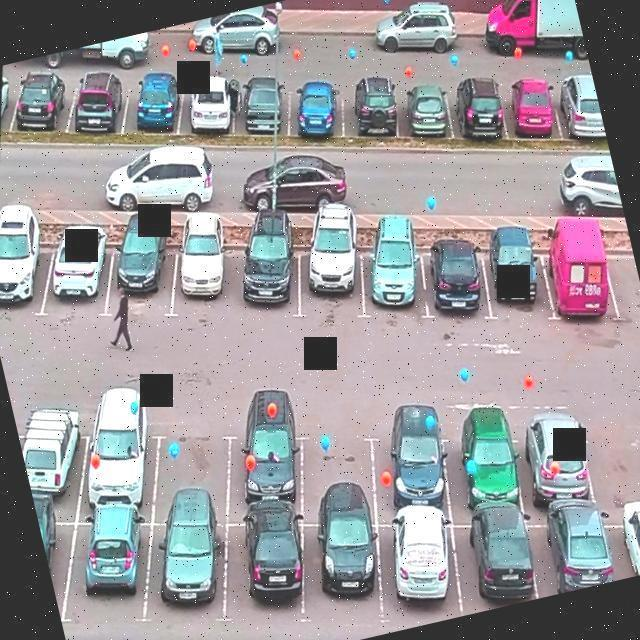space-empty: (276, 393, 402, 529), (134, 407, 248, 533), (552, 399, 640, 535), (588, 242, 640, 336)
space-occupied: (47, 491, 175, 640), (120, 502, 255, 640), (355, 499, 487, 635), (273, 502, 402, 638), (204, 395, 327, 534), (424, 493, 558, 619), (494, 398, 615, 533), (204, 502, 325, 634), (353, 395, 472, 528), (425, 402, 541, 526), (504, 498, 637, 602), (70, 395, 178, 517), (524, 227, 636, 338), (219, 222, 325, 337), (13, 396, 109, 522), (464, 227, 573, 337), (92, 220, 197, 329), (156, 219, 259, 327), (406, 226, 509, 334), (282, 225, 383, 331), (30, 221, 129, 329), (54, 54, 154, 159), (482, 50, 580, 157), (344, 228, 443, 329), (383, 57, 475, 156), (325, 60, 416, 159), (111, 61, 203, 158), (222, 59, 313, 157), (168, 52, 257, 151), (272, 58, 360, 154), (436, 66, 523, 163), (3, 60, 92, 152), (33, 492, 95, 621), (0, 214, 67, 328), (538, 58, 609, 158), (580, 498, 640, 585)
